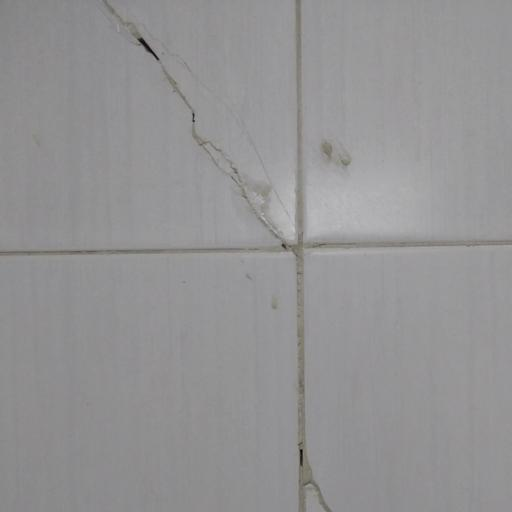minor_crack: (92, 0, 306, 256)
